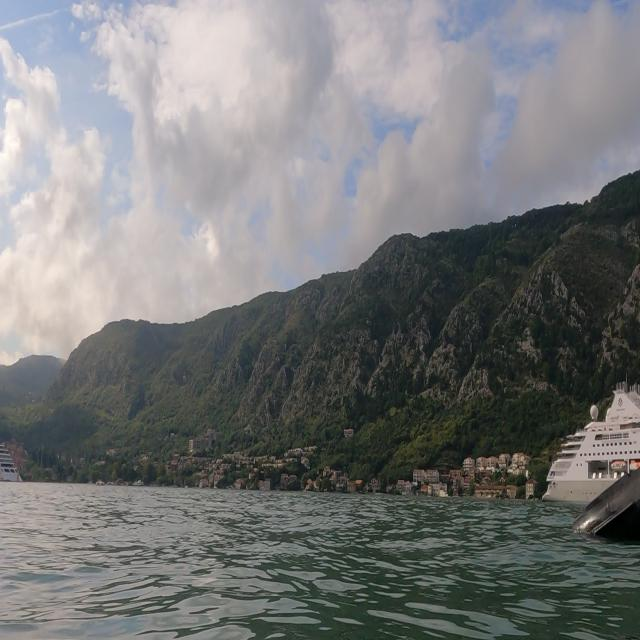boat: (541, 376, 638, 540)
buoy: (567, 459, 640, 545)
